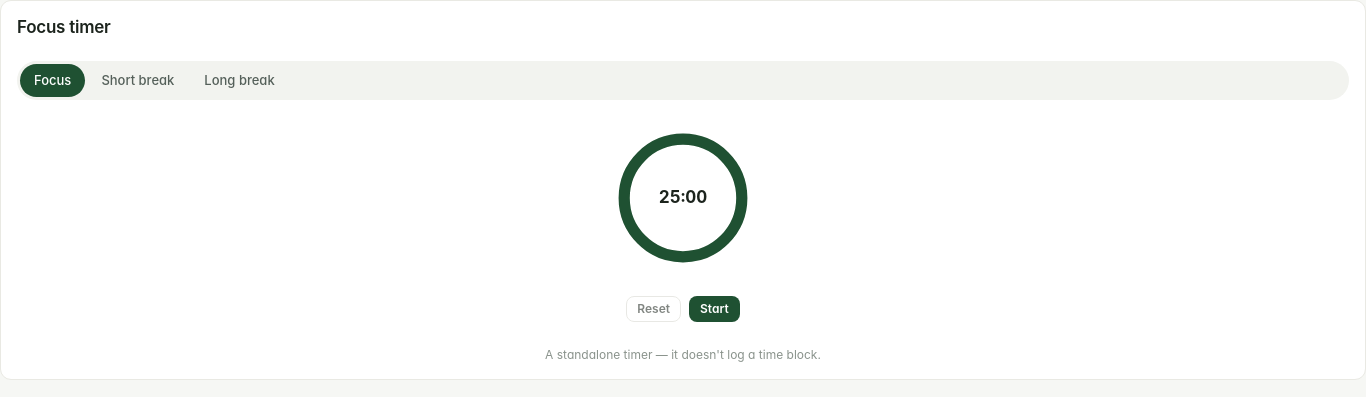
Test case: PomodoroCard › Reset restores the full duration and stops the countdown
The image size is (1366, 397).
Click the button "Start": (714, 308) top-left (689, 296), bottom-right (740, 322)
Wait 3000 ms
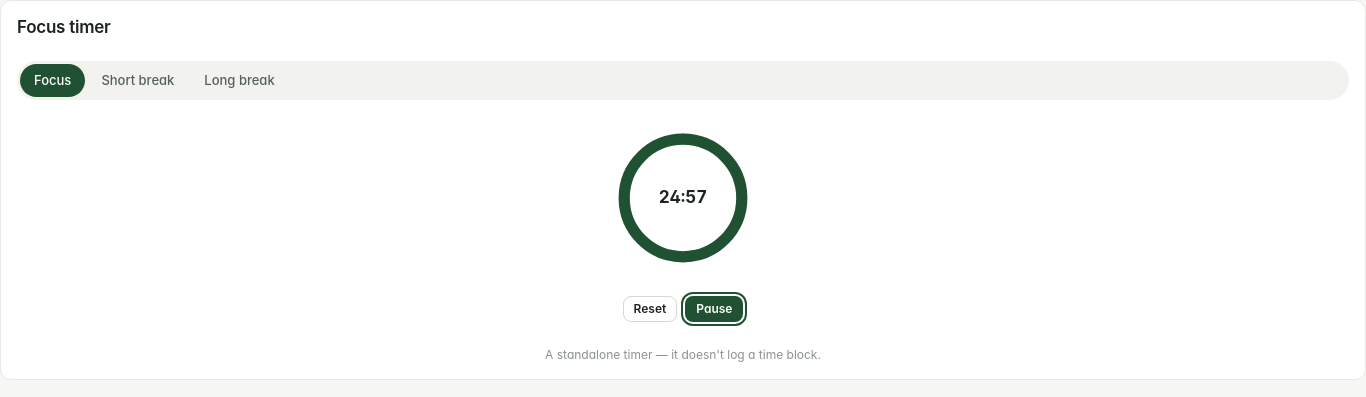
Click the button "Reset": (650, 308) top-left (622, 296), bottom-right (677, 322)
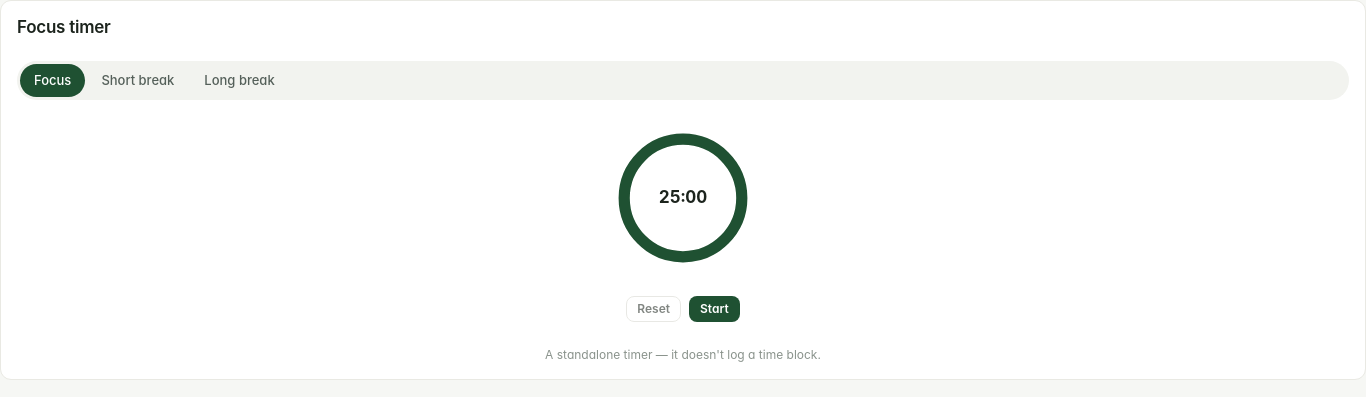
Now the text "25:00" is shown, box top-left (659, 184), bottom-right (707, 211)
Now the button "Start" is shown, box top-left (689, 296), bottom-right (740, 322)
